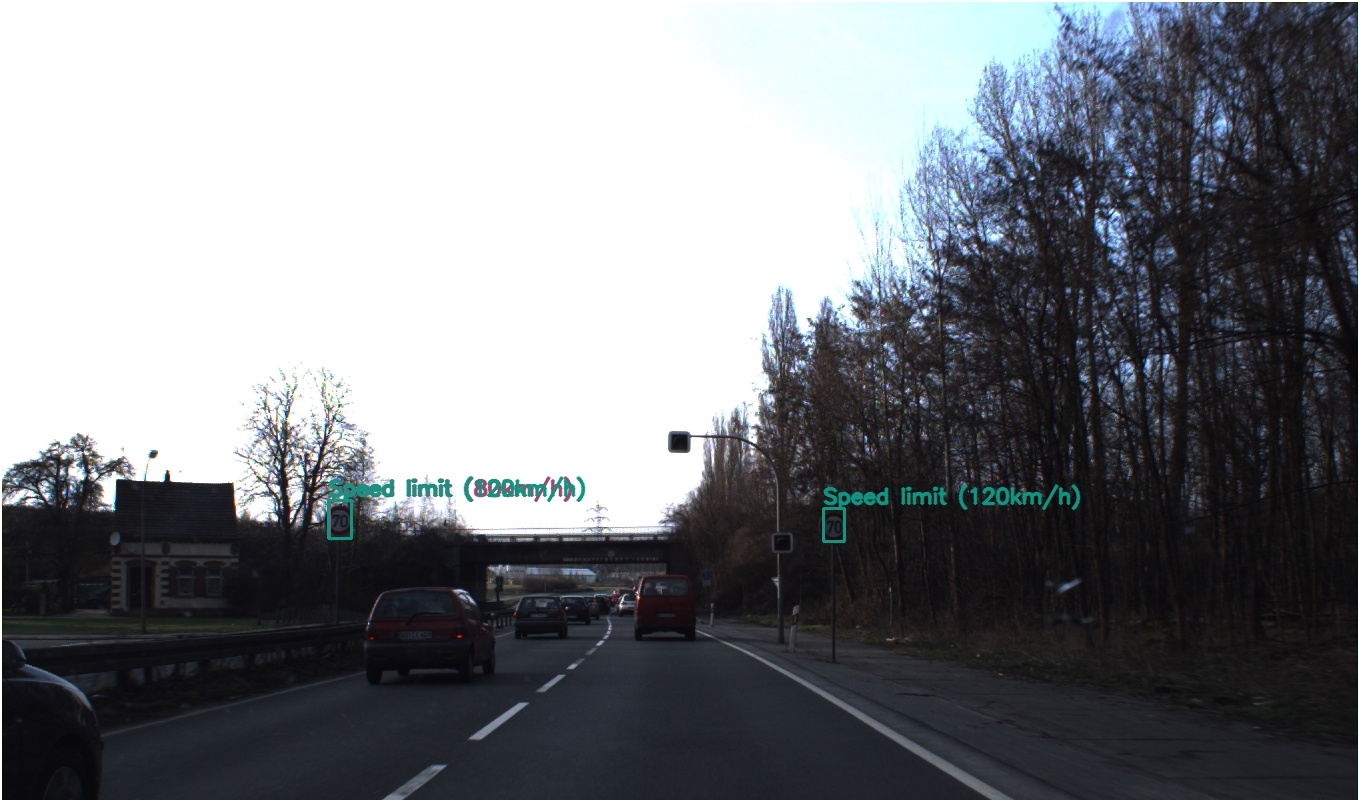Bumpy road: (1220, 168, 1327, 264)
Right-of-way at the next intersection: (69, 445, 107, 475)
Speed limit (50km/h): (1238, 256, 1314, 331)
